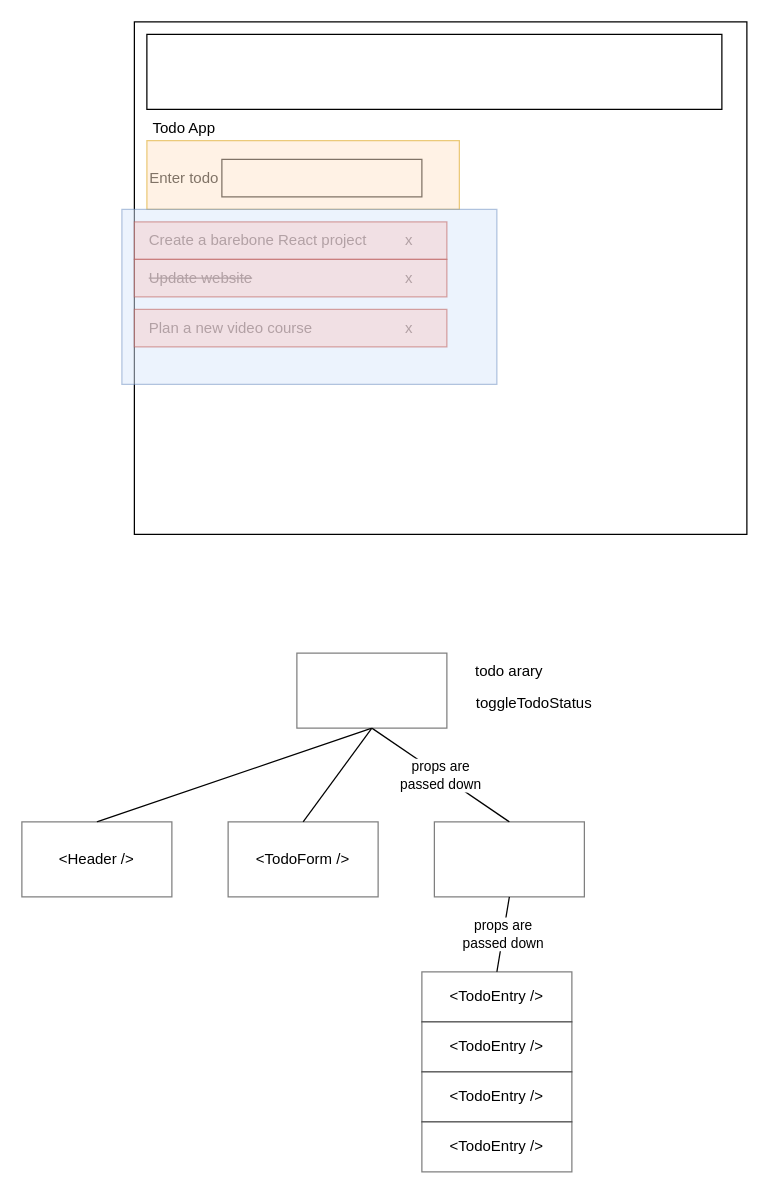
Image size: 769x1194. Some labels were removed from this diagram. The shapes that lost their labels are listed below. From the top down, each one's centre as x and y in pixels, then its label:
point 434,71: HEADER COMPONENT
point 371,690: <App />
point 508,859: <TodoList />
